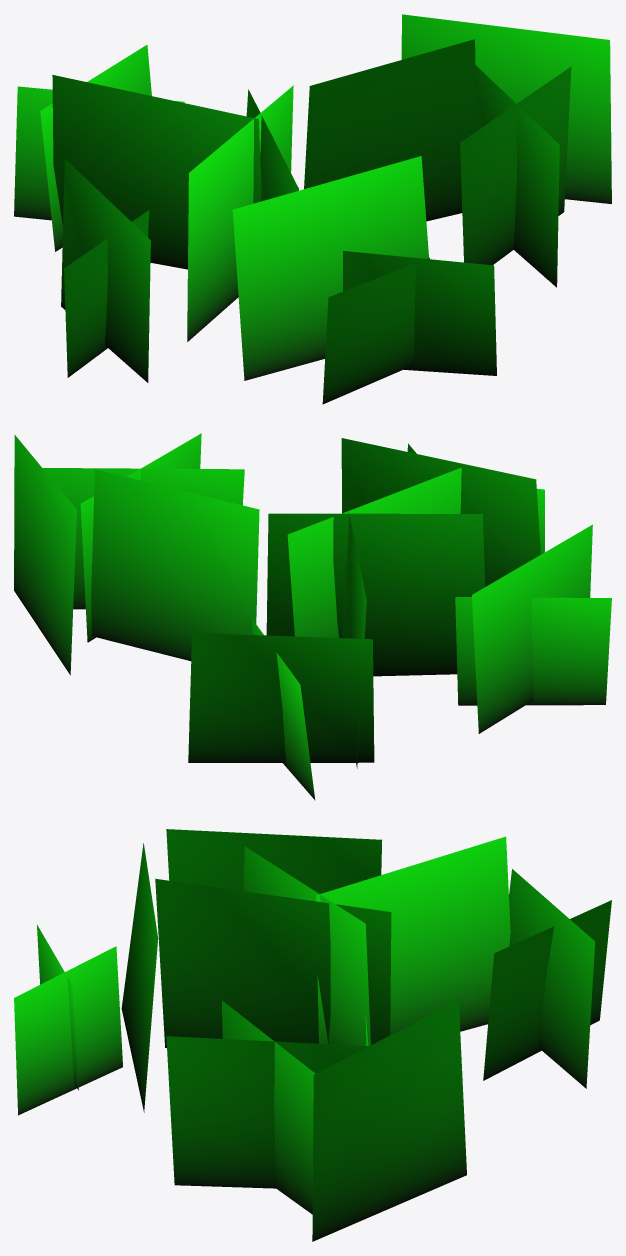
File: Grass_Size05.fbx
3 renders of one model, top to bottom at view 1: azimuth 30°, elevation 25°; view 2: azimuth 150°, elevation 25°; view 3: azimuth 270°, elevation 25°, orthographic. The views are drawn at different scales.
Visible parts, largest first — view 1: PP_grass_04; view 2: PP_grass_04; view 3: PP_grass_04.
Part boxes in pixels (x1,y1,x2,y2): PP_grass_04: [14, 14, 611, 404]; PP_grass_04: [14, 433, 611, 800]; PP_grass_04: [14, 829, 611, 1241].
Size of the model in its own units: 141 by 41.51 by 122.
